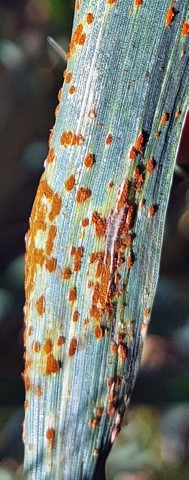Leaf Rust: (16, 62, 183, 394)
